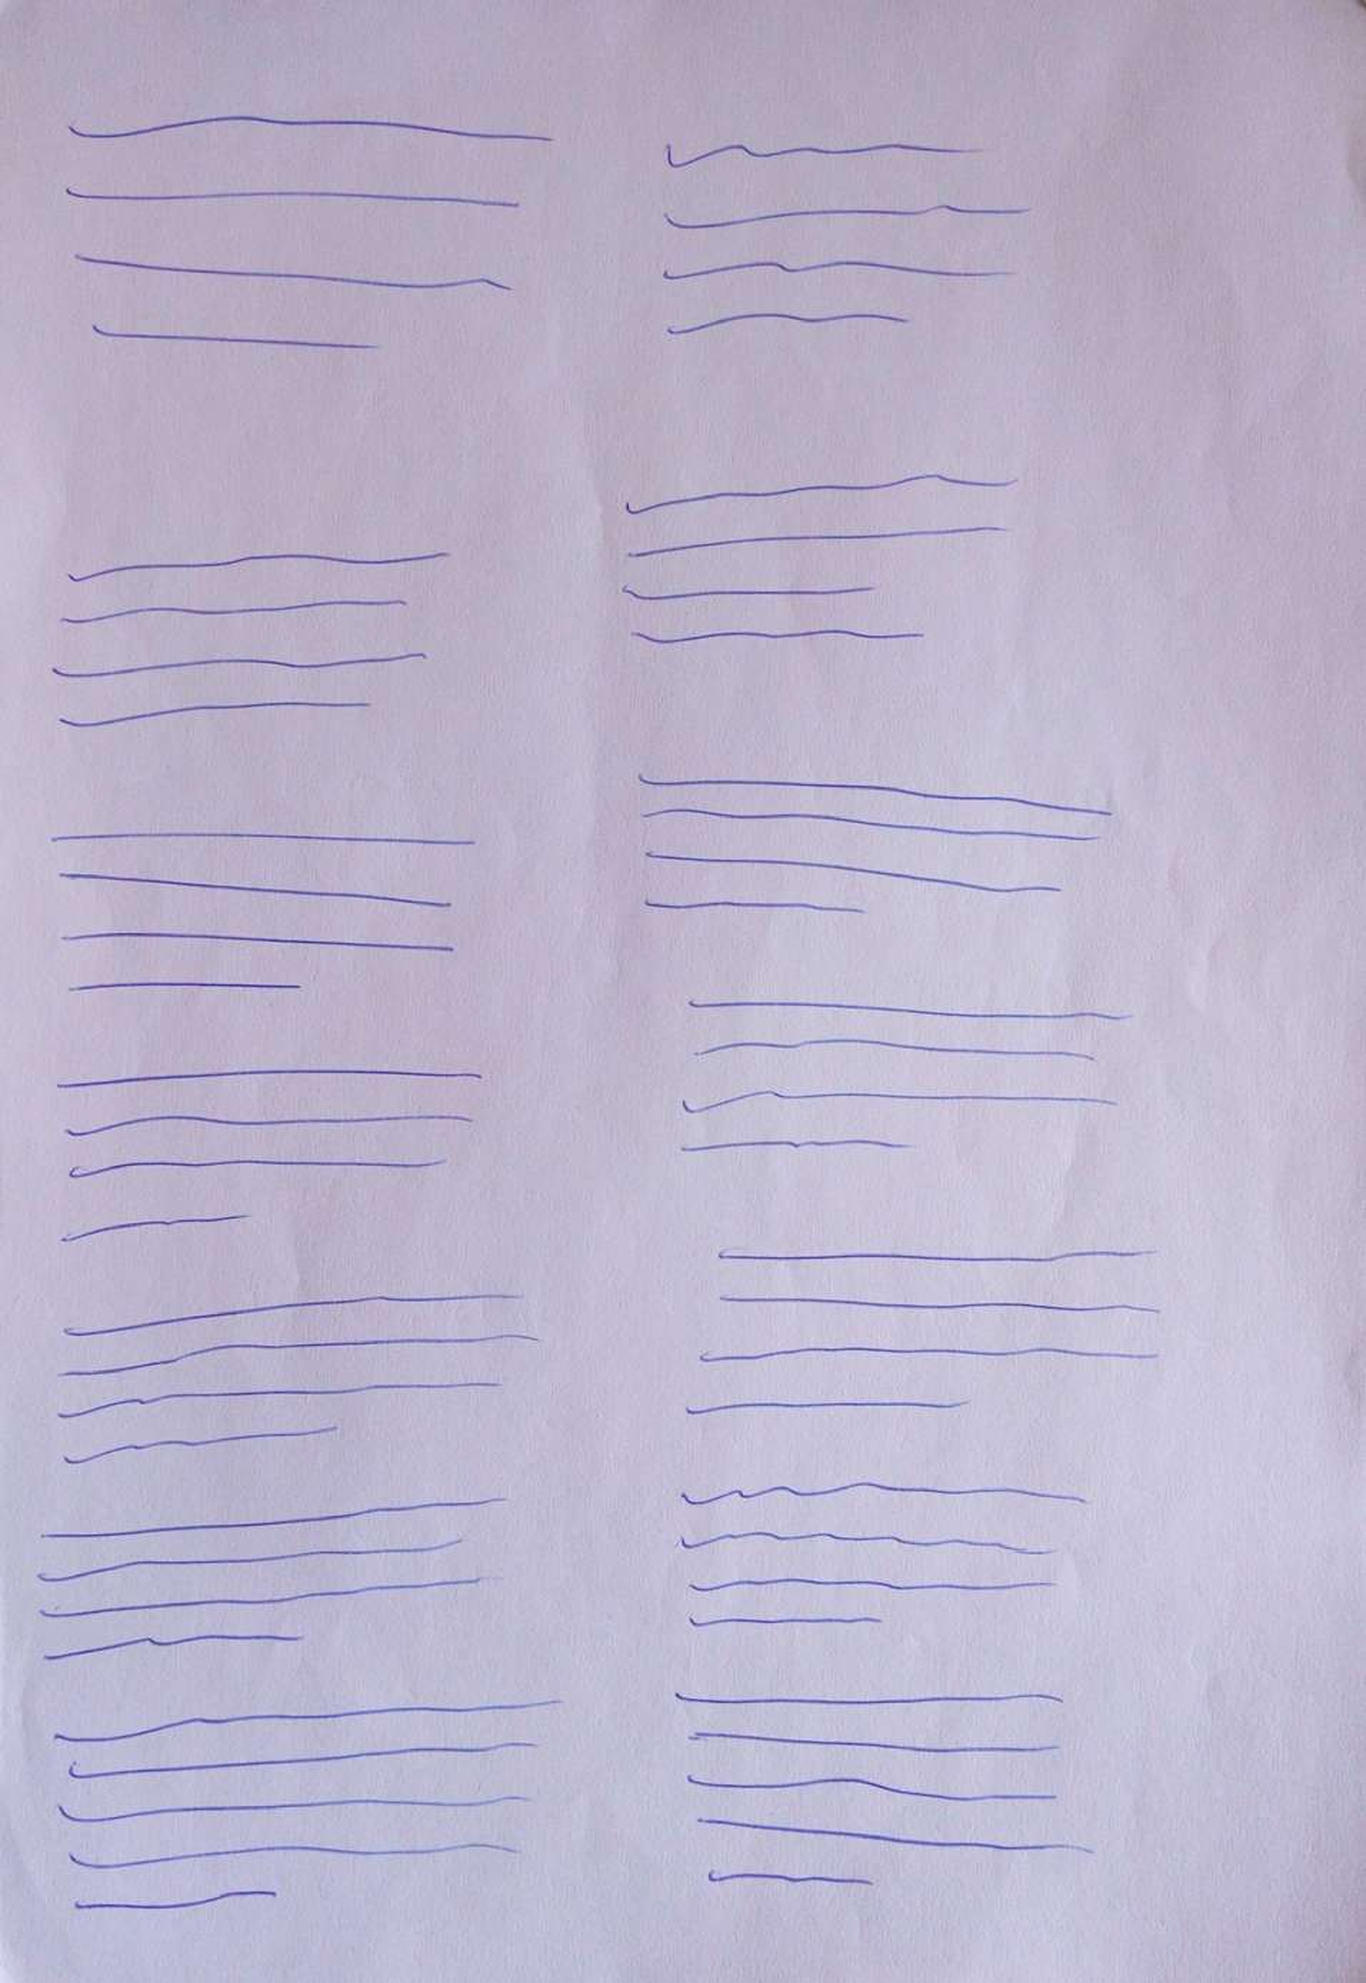Paragraph: (50, 105, 560, 359), (50, 1700, 569, 1915), (35, 1486, 520, 1670), (664, 1685, 1084, 1891), (53, 1291, 541, 1468), (679, 1240, 1170, 1412), (658, 124, 1029, 341), (50, 545, 476, 732), (56, 1064, 482, 1246), (628, 761, 1110, 918), (673, 995, 1137, 1156), (50, 824, 479, 998), (613, 470, 1017, 649), (673, 1474, 1087, 1630)
